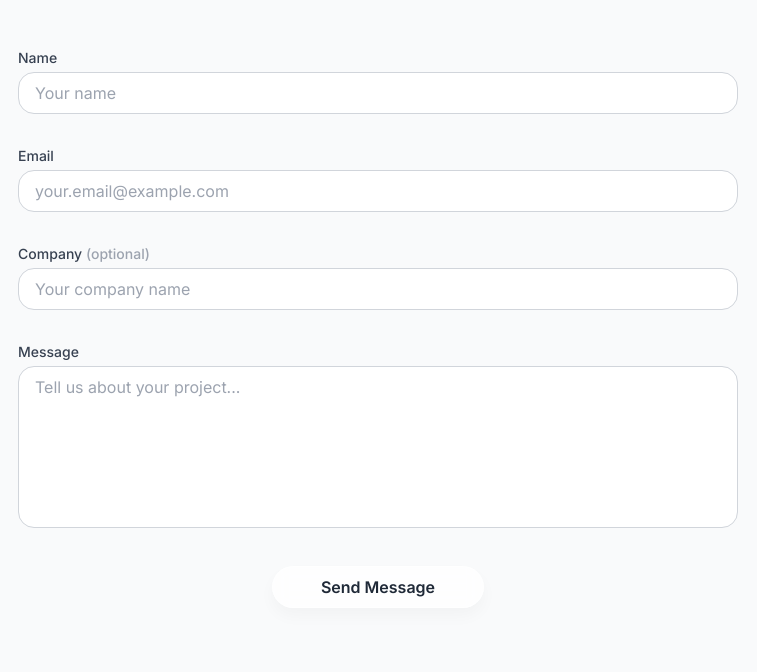
Test case: User Journey Tests › 2. Contact Form Validation › should display success message after successful submission
This screenshot has width=757, height=672.
Type "John Doe" into the field labelled "Name" at x=378, y=93, box [18,72,738,114]
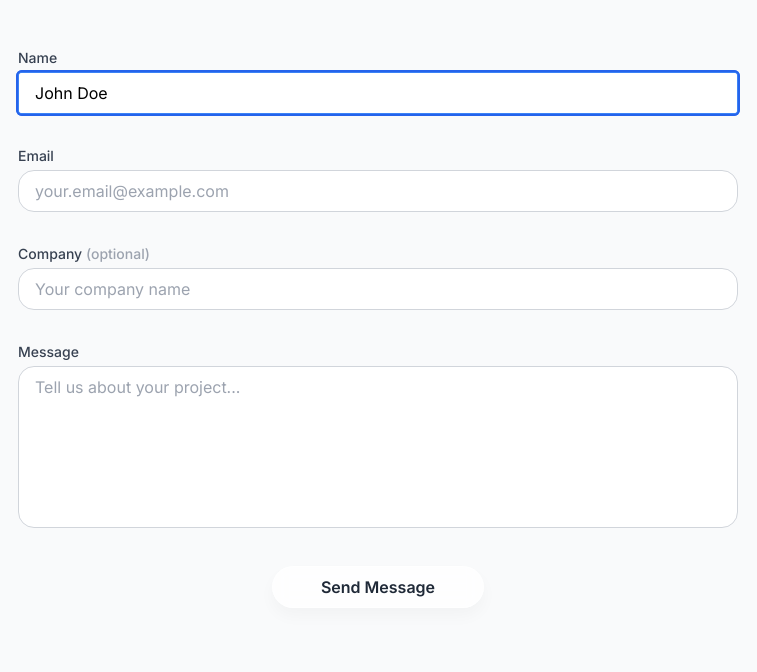
Type "john@example.com" into the field labelled "Email" at x=378, y=191, box [18,170,738,212]
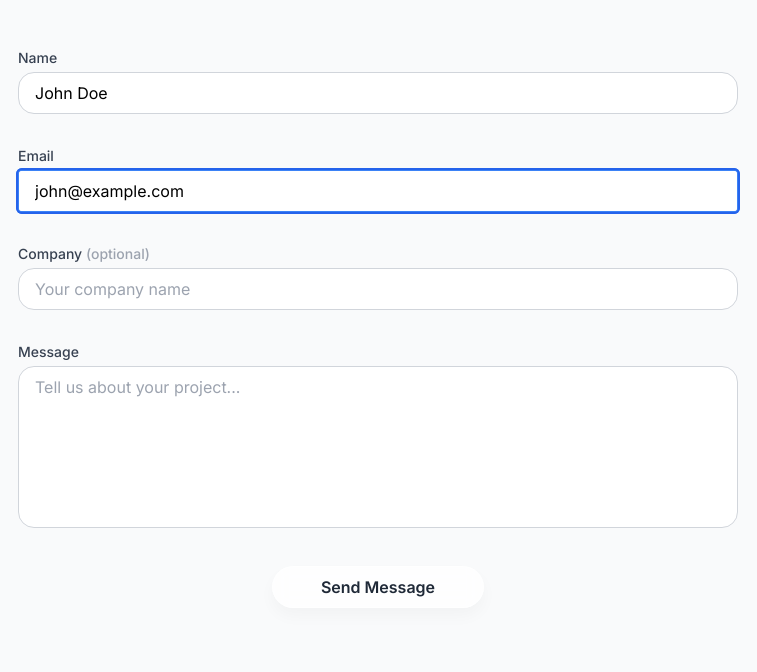
Type "This is a valid test message with enough characters" into the text box labelled "Message" at x=378, y=447, box [18,366,738,528]
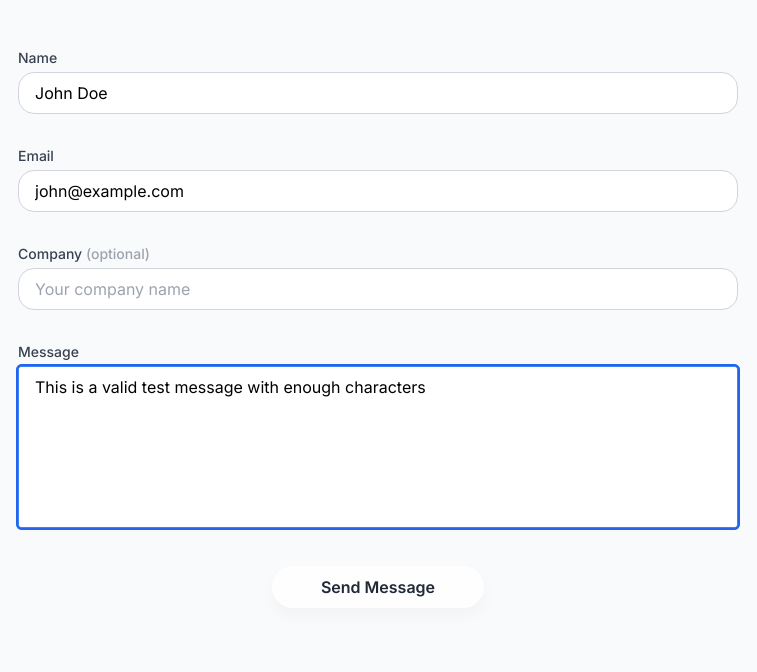
Click the button "Send Message" at x=378, y=587, box [272,566,484,608]
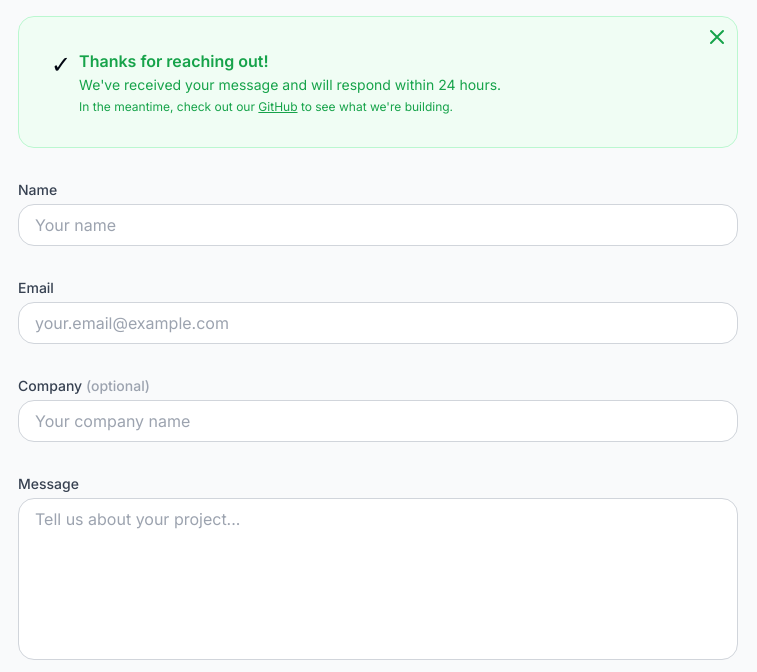
Result: the text "Thanks for reaching out!" is shown at [79,51,269,71]
Result: the text "We've received your message and will respond within 24 hours" is shown at [79,76,501,93]
